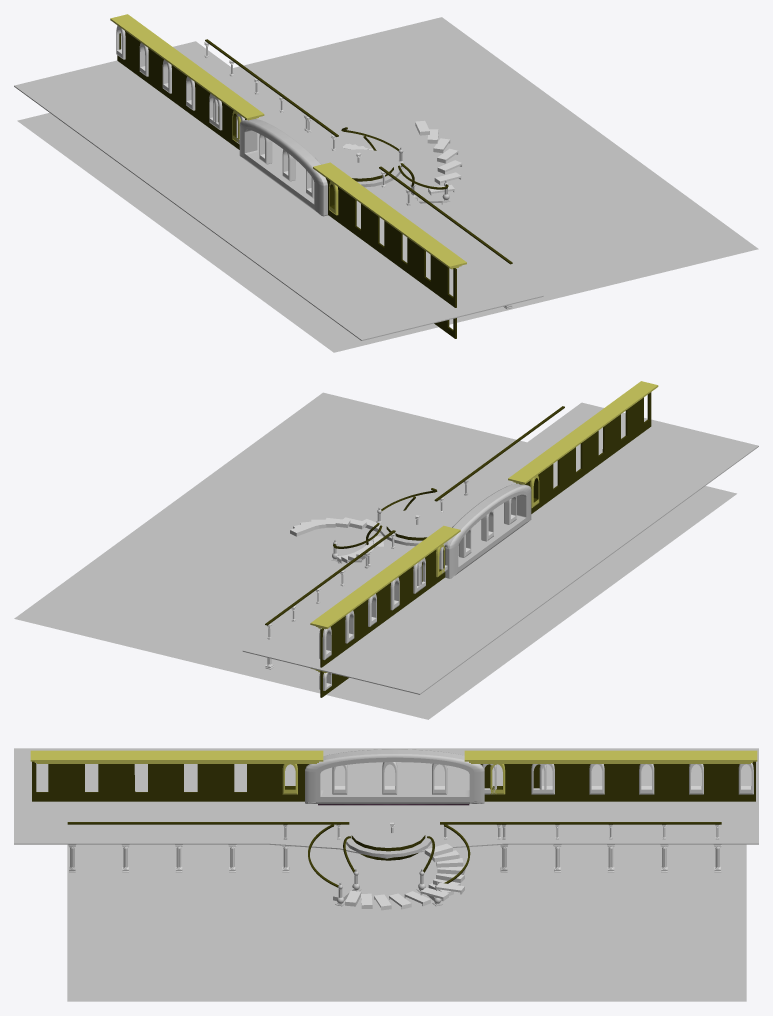
File: Mansion.fbx
The picture shows the model from 3 angles, top to bottom: view 1: azimuth 30°, elevation 25°; view 2: azimuth 150°, elevation 25°; view 3: azimuth 270°, elevation 25°; orthographic projection. The views are drawn at different scales.
Parts seen in each view (by area): view 1: Floor, Cube_2, Wall, Top_of_Wall, Window, Center_SEcond_Floor, Cube, Space_Window; view 2: Floor, Cube_2, Wall, Top_of_Wall, Window, Center_SEcond_Floor, Cube, Space_Window; view 3: Floor, Cube_2, Wall, Top_of_Wall, Window, Center_SEcond_Floor, Cube, Space_Window, Window_instance_2, Window_instance_3, Window_2, Window_instance_5 (+3 smaller).
Part boxes in pixels (bbox=[...]): Floor: bbox=[17, 17, 758, 352]; Cube_2: bbox=[14, 41, 543, 340]; Wall: bbox=[117, 31, 456, 307]; Top_of_Wall: bbox=[110, 14, 466, 269]; Window: bbox=[239, 119, 327, 216]; Center_SEcond_Floor: bbox=[320, 149, 400, 187]; Cube: bbox=[205, 39, 512, 264]; Space_Window: bbox=[244, 129, 314, 204]; Floor: bbox=[14, 392, 736, 719]; Cube_2: bbox=[242, 402, 758, 694]; Wall: bbox=[320, 392, 651, 667]; Top_of_Wall: bbox=[310, 381, 658, 629]; Window: bbox=[445, 483, 531, 578]; Center_SEcond_Floor: bbox=[380, 509, 457, 546]; Cube: bbox=[265, 406, 564, 625]; Space_Window: bbox=[458, 494, 526, 566]; Floor: bbox=[67, 844, 746, 1001]; Cube_2: bbox=[14, 748, 758, 858]; Wall: bbox=[32, 761, 755, 801]; Top_of_Wall: bbox=[30, 750, 757, 763]; Window: bbox=[305, 749, 484, 803]; Center_SEcond_Floor: bbox=[344, 816, 432, 860]; Cube: bbox=[67, 822, 721, 824]; Space_Window: bbox=[320, 790, 469, 796]; Window_instance_2: bbox=[382, 762, 604, 794]; Window_instance_3: bbox=[432, 763, 654, 794]; Window_2: bbox=[282, 764, 505, 794]; Window_instance_5: bbox=[531, 763, 753, 794].
Size of the model in its own units: 3940 by 682 by 5583.
6 materials, 1 textured.
